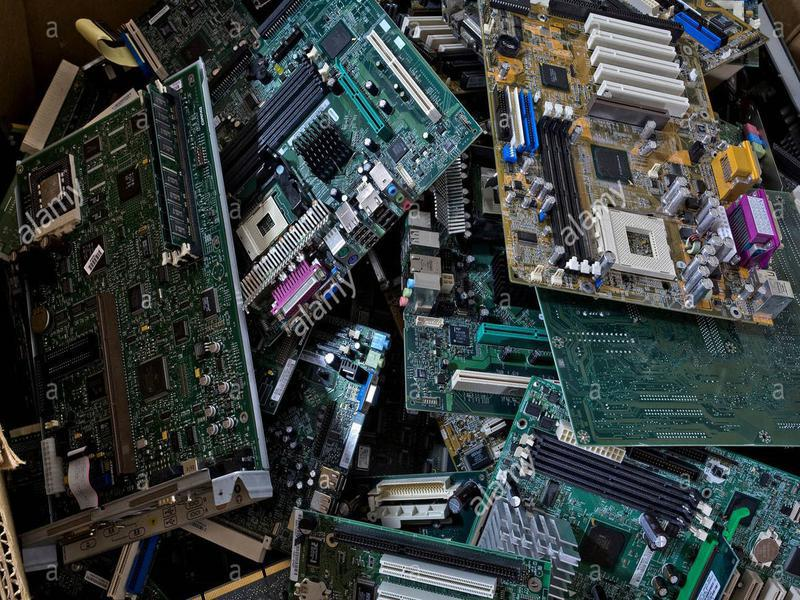circuit_board: (5, 57, 279, 576), (117, 3, 490, 325), (469, 2, 800, 326), (424, 375, 798, 600)
